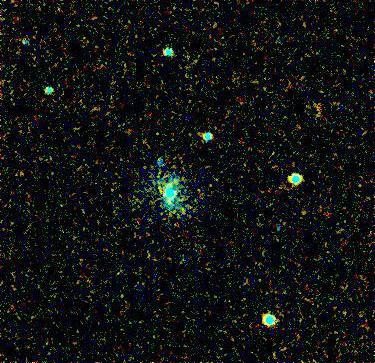star: (160, 170, 190, 200)
